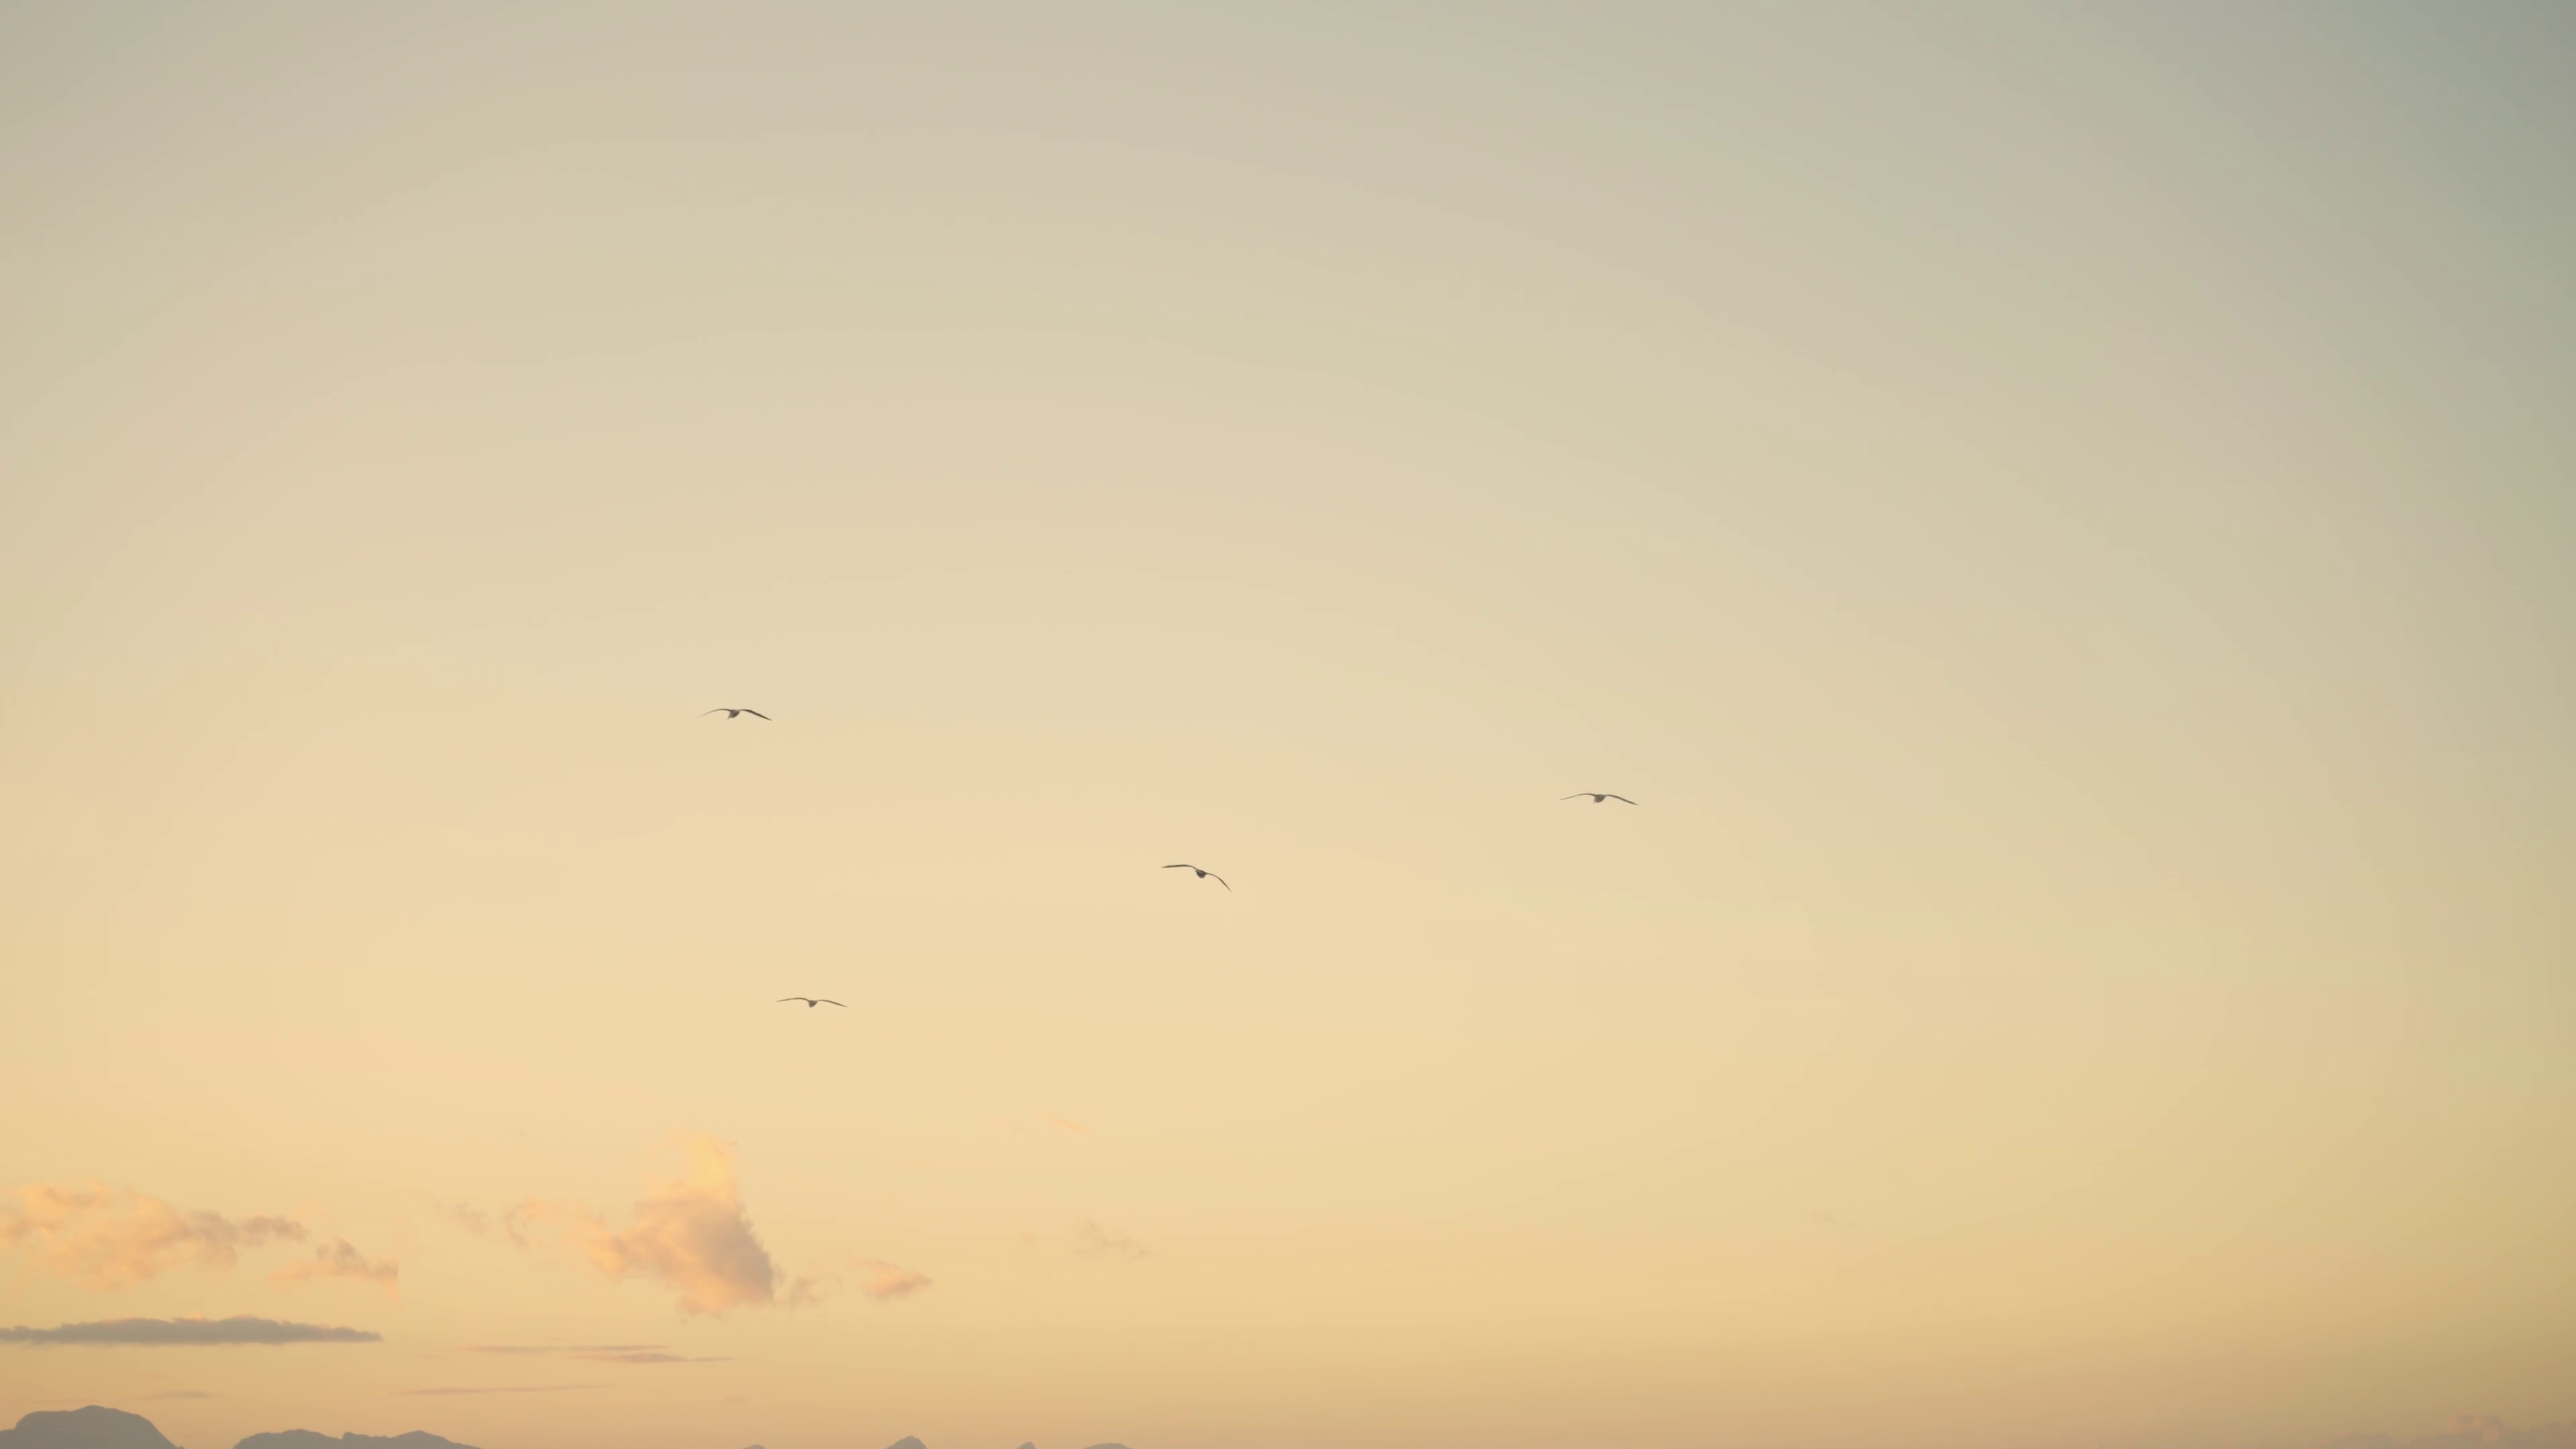bird: (1162, 863, 1230, 892), (702, 708, 771, 724), (1560, 793, 1637, 807), (777, 998, 849, 1012)
